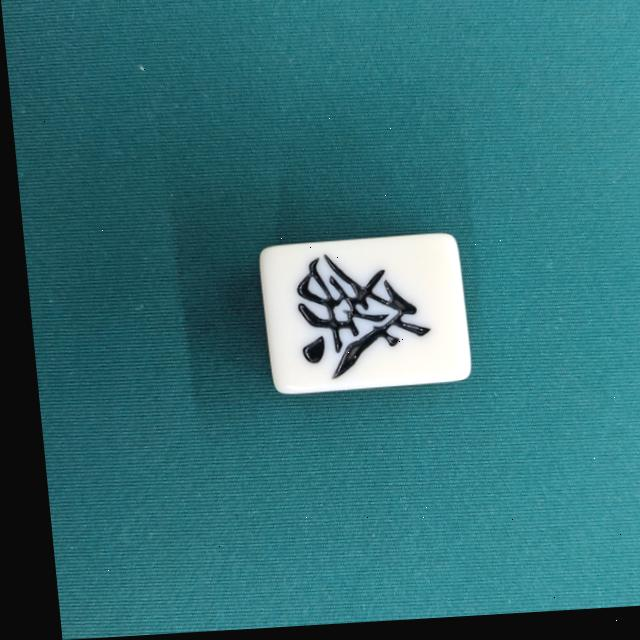hatu: (251, 235, 465, 400)
